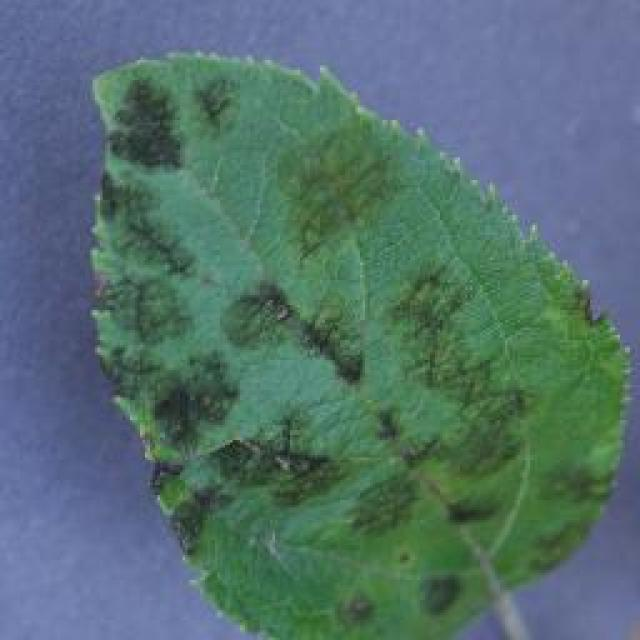apple scab disease: (85, 45, 633, 637)
